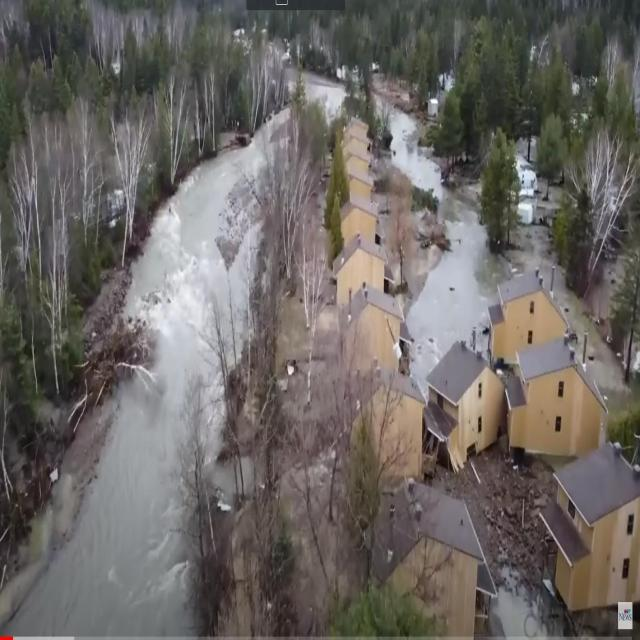flood: (3, 114, 284, 636), (380, 105, 556, 391), (555, 265, 631, 410), (471, 509, 548, 639), (302, 69, 346, 119), (288, 65, 296, 90)
house: (370, 477, 484, 640), (540, 448, 640, 620), (508, 333, 611, 459), (430, 342, 506, 467), (343, 362, 426, 476), (486, 270, 568, 379), (340, 282, 406, 366), (331, 228, 388, 298), (337, 193, 380, 238)
